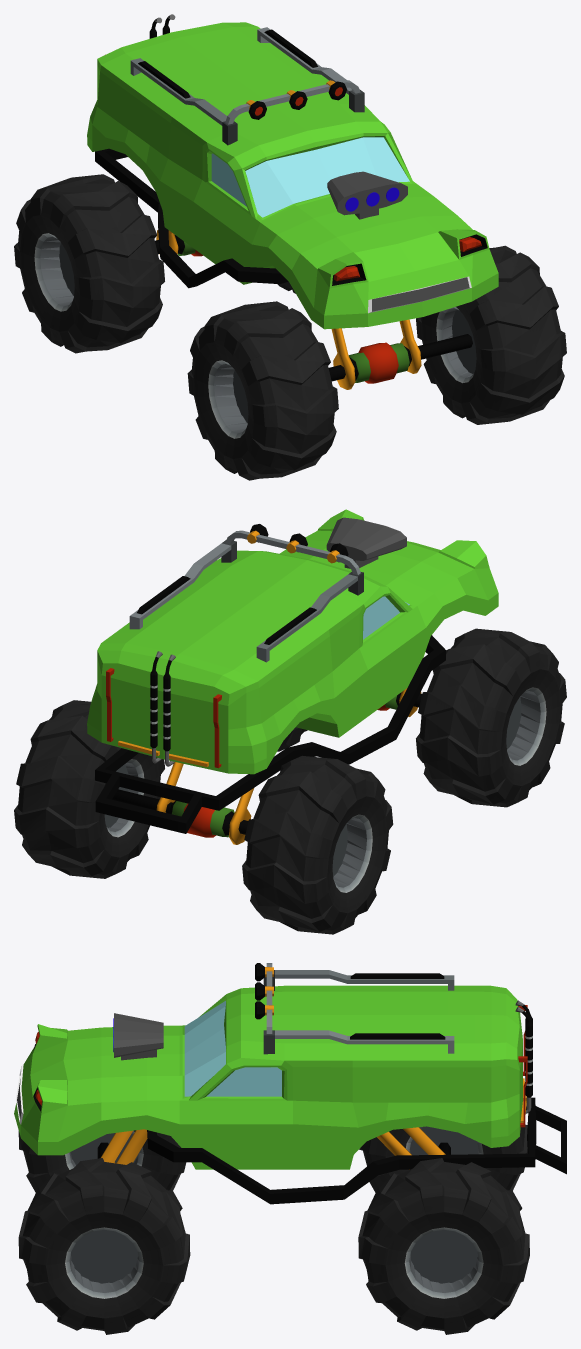
File: Green.fbx
3 renders of one model, top to bottom at view 1: azimuth 30°, elevation 25°; view 2: azimuth 150°, elevation 25°; view 3: azimuth 270°, elevation 25°, orthographic. The views are drawn at different scales.
Visible parts, largest first — view 1: Monster_Truck_Body.001; view 2: Monster_Truck_Body.001; view 3: Monster_Truck_Body.001.
Part boxes in pixels (x1,y1,x2,y2): Monster_Truck_Body.001: (14,14,566,480); Monster_Truck_Body.001: (14,509,566,934); Monster_Truck_Body.001: (14,963,566,1334).
Size of the model in its own units: 485 by 442 by 774.
Materials: 3 (1 with a texture image).
